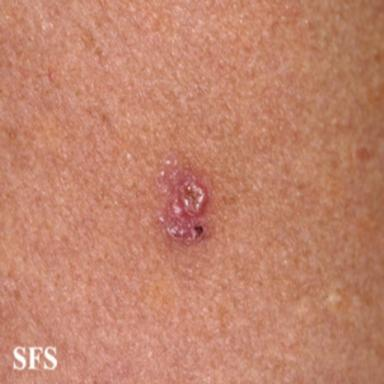basal-cell-carcinoma: (155, 155, 214, 248)
